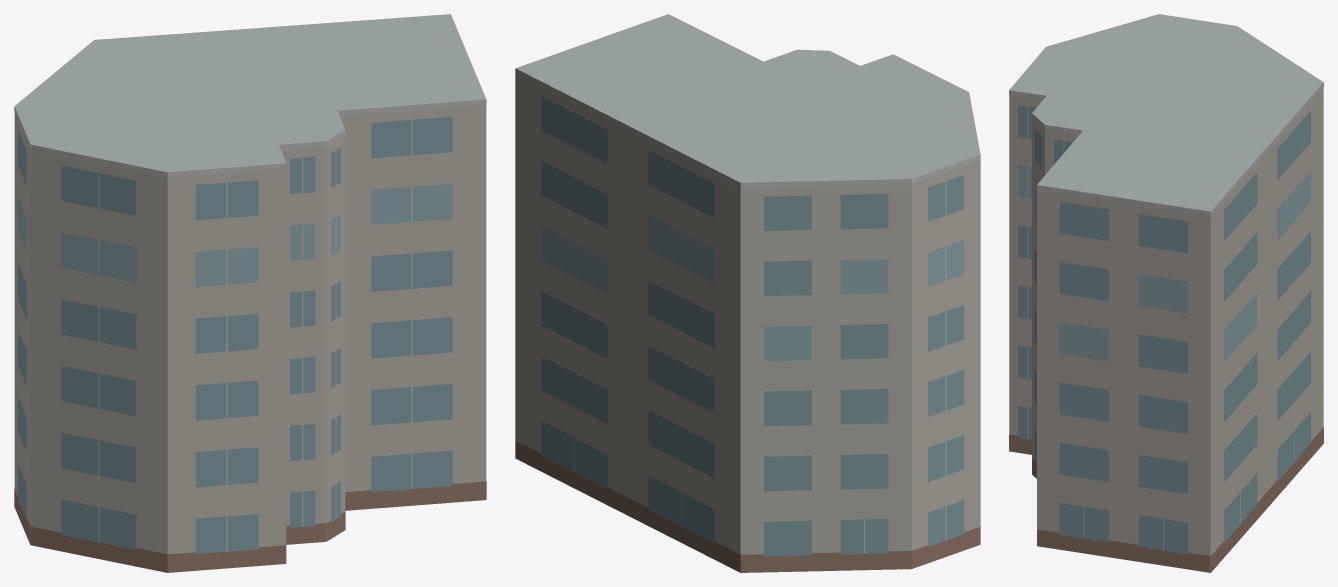
Rendered from survey-upis-32893445.glb.
3 views of the same model, side by side, from view 1: azimuth 30°, elevation 25°; view 2: azimuth 150°, elevation 25°; view 3: azimuth 270°, elevation 25° (orthographic). The views are drawn at different scales.
Visible parts, largest first — view 1: survey-upis-32893445.tmp; view 2: survey-upis-32893445.tmp; view 3: survey-upis-32893445.tmp.
Boxes of the visible parts, x1=… form: survey-upis-32893445.tmp: x1=14, y1=14, x2=486, y2=572; survey-upis-32893445.tmp: x1=515, y1=14, x2=980, y2=572; survey-upis-32893445.tmp: x1=1009, y1=14, x2=1323, y2=572.
Bounding box in the file's own units: 20.19 × 17.2 × 13.59.
